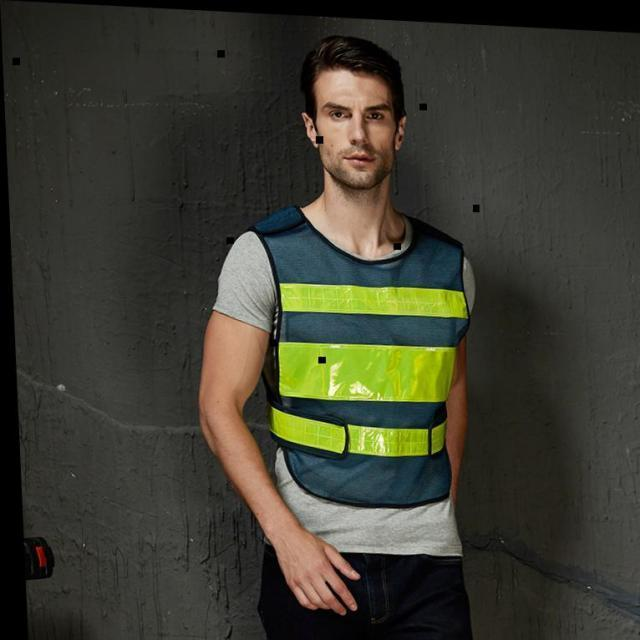safety_helmet: (248, 210, 476, 512)
